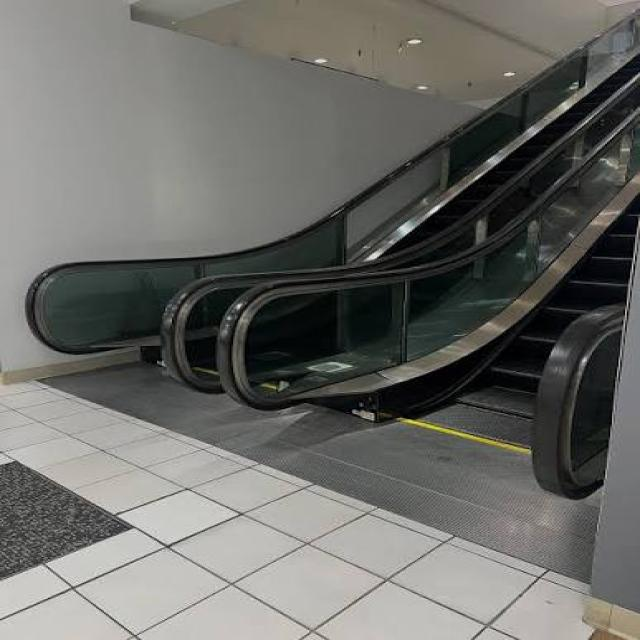escalator: (16, 5, 638, 483), (203, 92, 635, 579)
